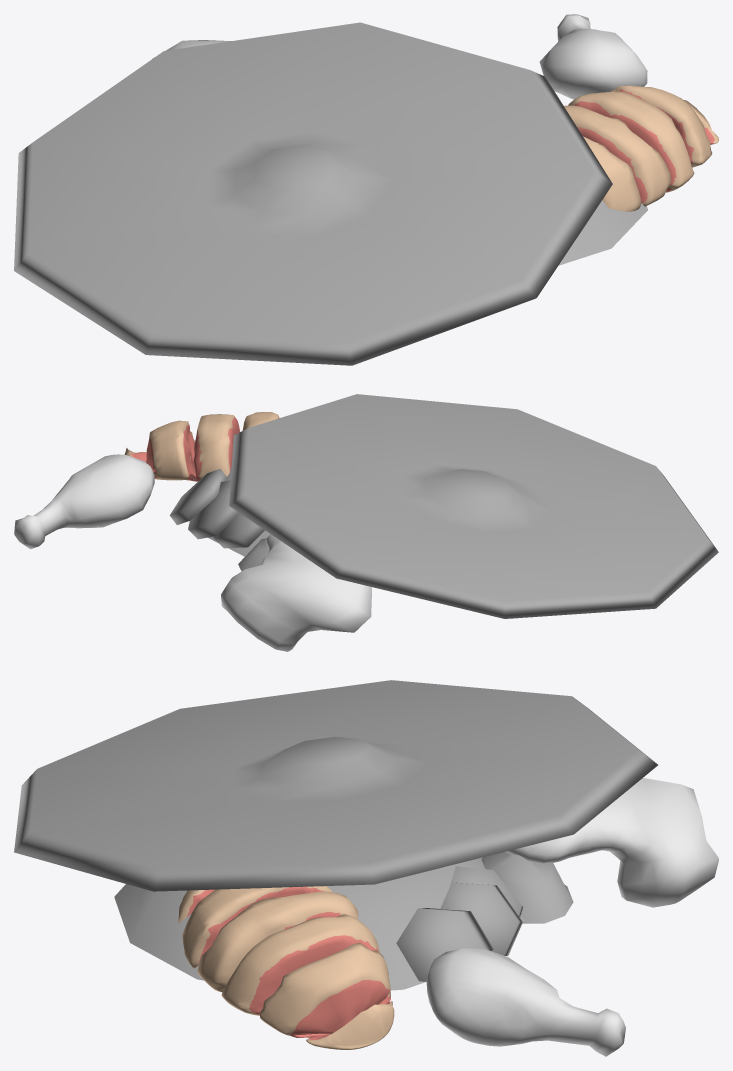
The model's file is Fallen_Plate_Of_Chicken_Rice.fbx.
3 views of the same model, one above another, from view 1: azimuth 30°, elevation 25°; view 2: azimuth 150°, elevation 25°; view 3: azimuth 270°, elevation 25° (orthographic). The views are drawn at different scales.
Parts seen in each view (by area): view 1: Fallen_Plate, Fallen_Chicken, Fallen_Drumstick, Fallen_Rice; view 2: Fallen_Plate, Fallen_Chickenwing, Fallen_Drumstick, Fallen_Chicken, Fallen_Rice; view 3: Fallen_Plate, Fallen_Chicken, Fallen_Rice, Fallen_Chickenwing, Fallen_Drumstick.
Boxes of the visible parts, left/top/right/bottom form: Fallen_Plate: left=14, top=22, right=612, bottom=365; Fallen_Chicken: left=564, top=85, right=718, bottom=211; Fallen_Drumstick: left=539, top=14, right=647, bottom=99; Fallen_Rice: left=558, top=200, right=647, bottom=265; Fallen_Plate: left=229, top=394, right=718, bottom=618; Fallen_Chickenwing: left=221, top=534, right=371, bottom=651; Fallen_Drumstick: left=14, top=454, right=154, bottom=549; Fallen_Chicken: left=124, top=412, right=279, bottom=481; Fallen_Rice: left=169, top=467, right=270, bottom=571; Fallen_Plate: left=14, top=680, right=657, bottom=891; Fallen_Chicken: left=178, top=886, right=394, bottom=1049; Fallen_Rice: left=114, top=852, right=573, bottom=990; Fallen_Chickenwing: left=505, top=778, right=718, bottom=907; Fallen_Drumstick: left=426, top=948, right=625, bottom=1056.
Size of the model in its own units: 18.46 by 3.21 by 15.51.
